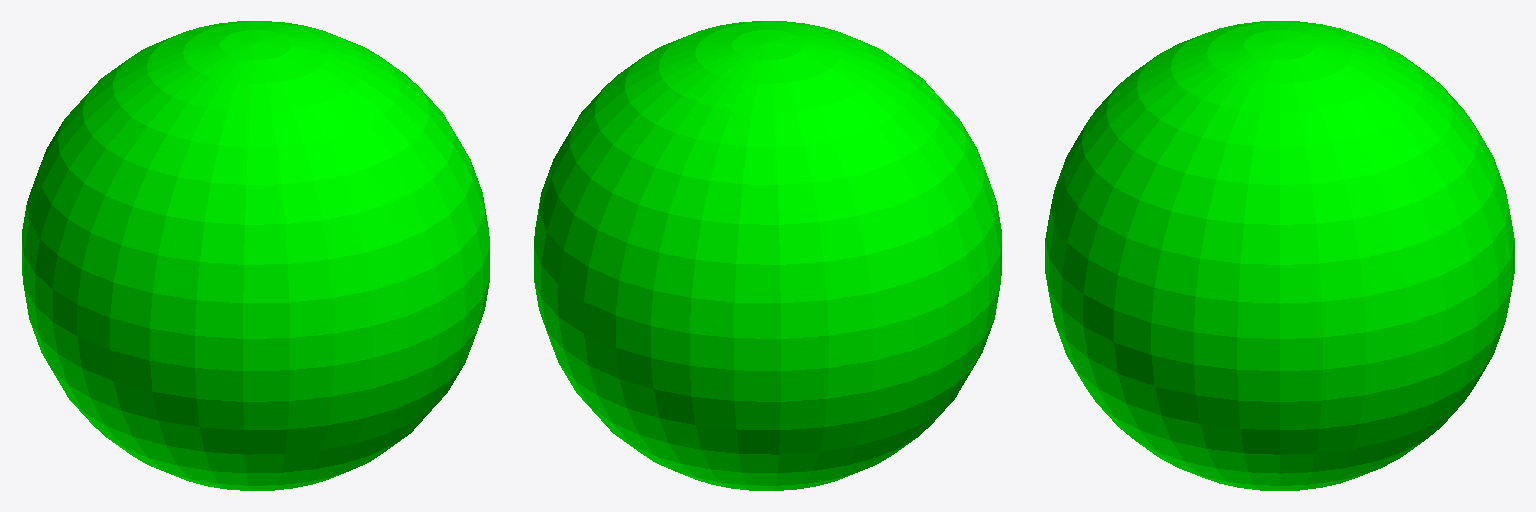
3 views of the same model, side by side, from view 1: azimuth 30°, elevation 25°; view 2: azimuth 150°, elevation 25°; view 3: azimuth 270°, elevation 25° (orthographic).
Parts seen in each view (by area): view 1: SurfSphere; view 2: SurfSphere; view 3: SurfSphere.
Part boxes in pixels (x1,y1,x2,y2): SurfSphere: (22, 21, 489, 490); SurfSphere: (534, 21, 1001, 490); SurfSphere: (1045, 21, 1514, 490).
Bounding box in the file's own units: 1.99 × 2 × 1.99.